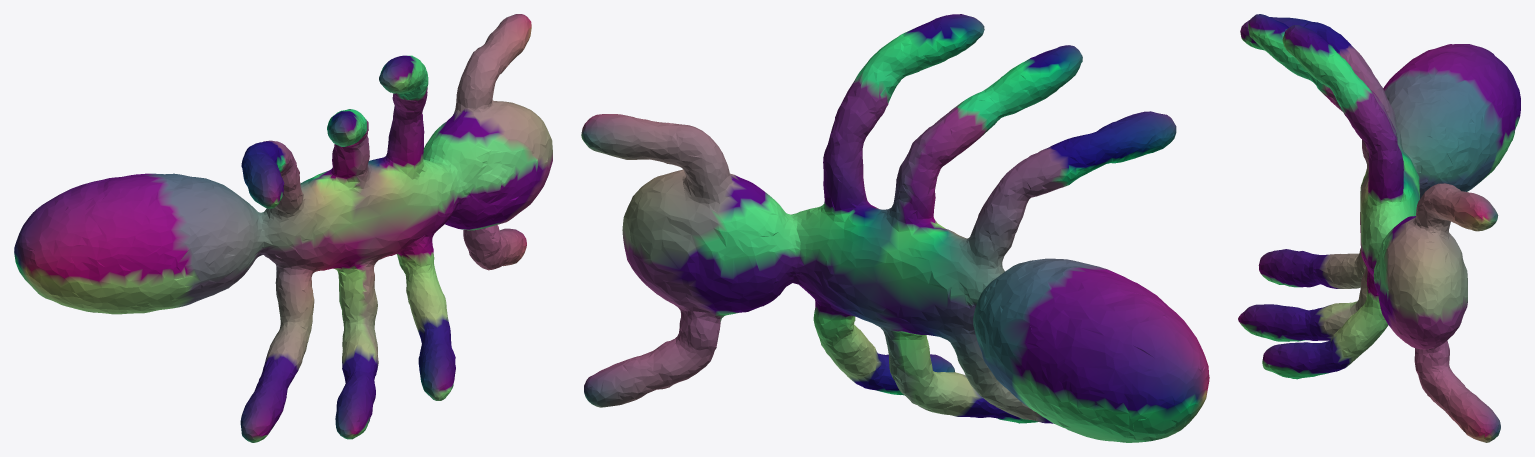
File: ant-18.off.obj
The picture shows the model from 3 angles, left to right: view 1: azimuth 30°, elevation 25°; view 2: azimuth 150°, elevation 25°; view 3: azimuth 270°, elevation 25°; orthographic projection. The views are drawn at different scales.
Size of the model in its own units: 1.63 by 1.03 by 0.7832.
